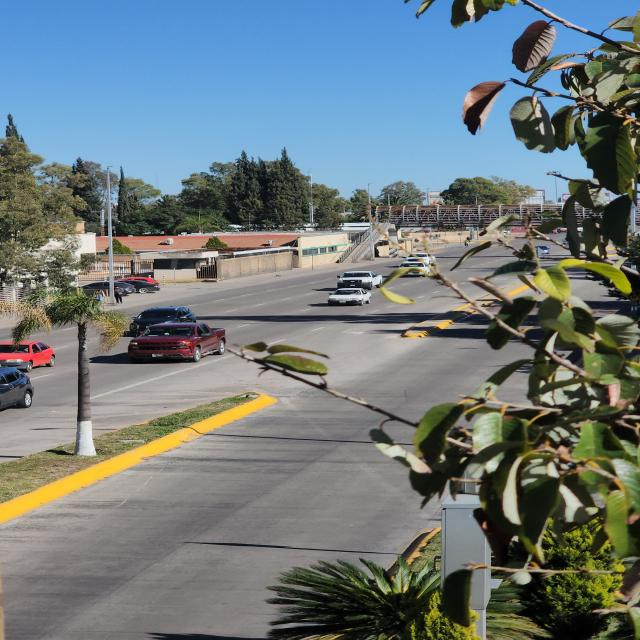Auto: (128, 320, 227, 363), (128, 304, 208, 342), (0, 339, 56, 372), (0, 366, 33, 414), (326, 290, 369, 307), (118, 276, 161, 292)
